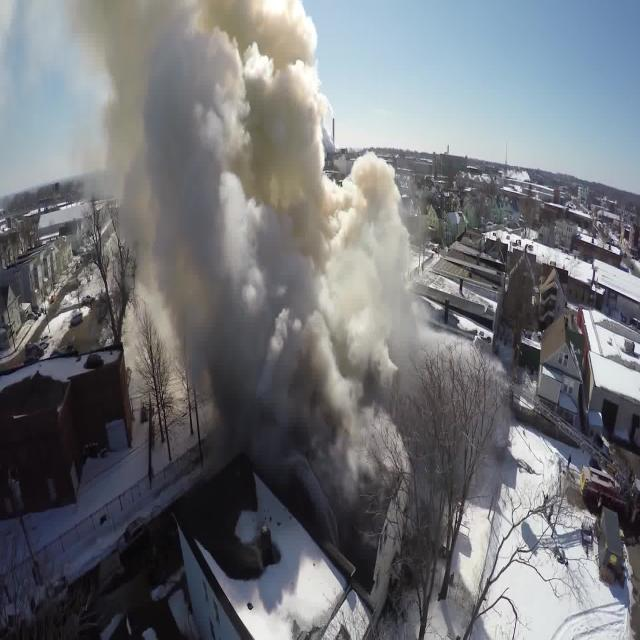Smoke: (52, 0, 466, 480)
